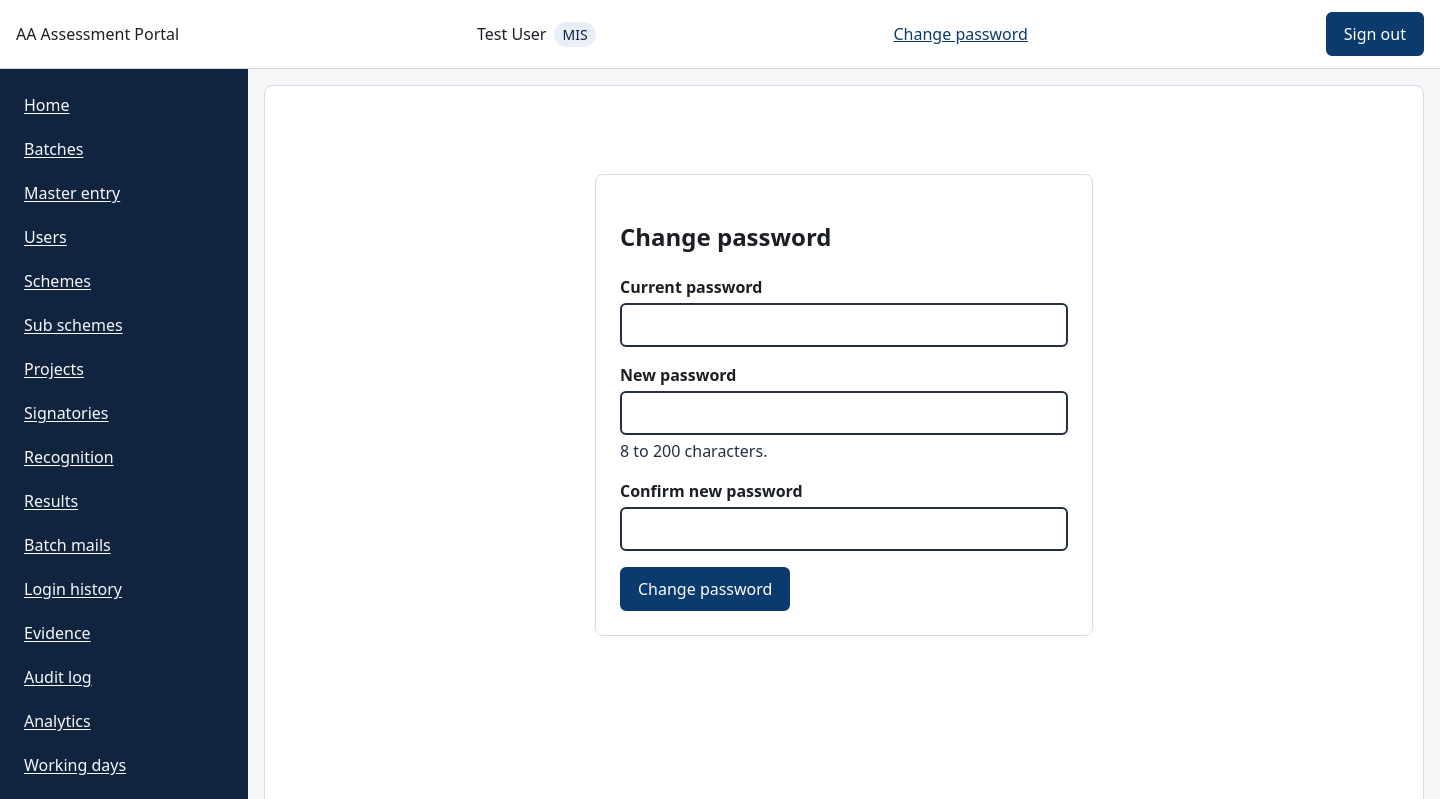
shows a retry message when the server rate-limits the attempt
Expected: the heading "Change password" is shown, [620,220,832,253]
In the password field labelled "Current password": point(844, 325) [620,303,1068,347], type "old-password-1"
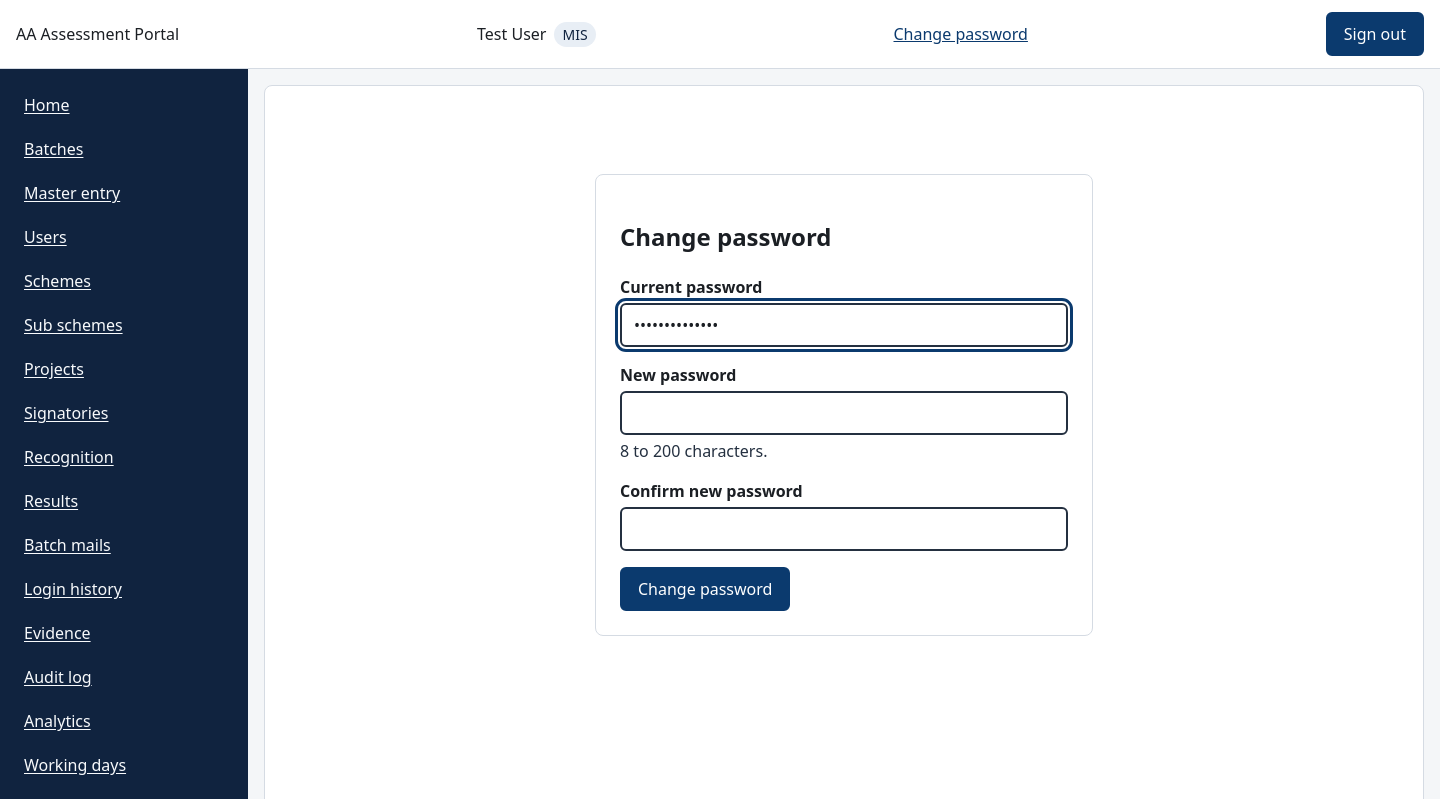
In the password field labelled "New password": point(844, 413) [620,391,1068,435], type "new-password-2"
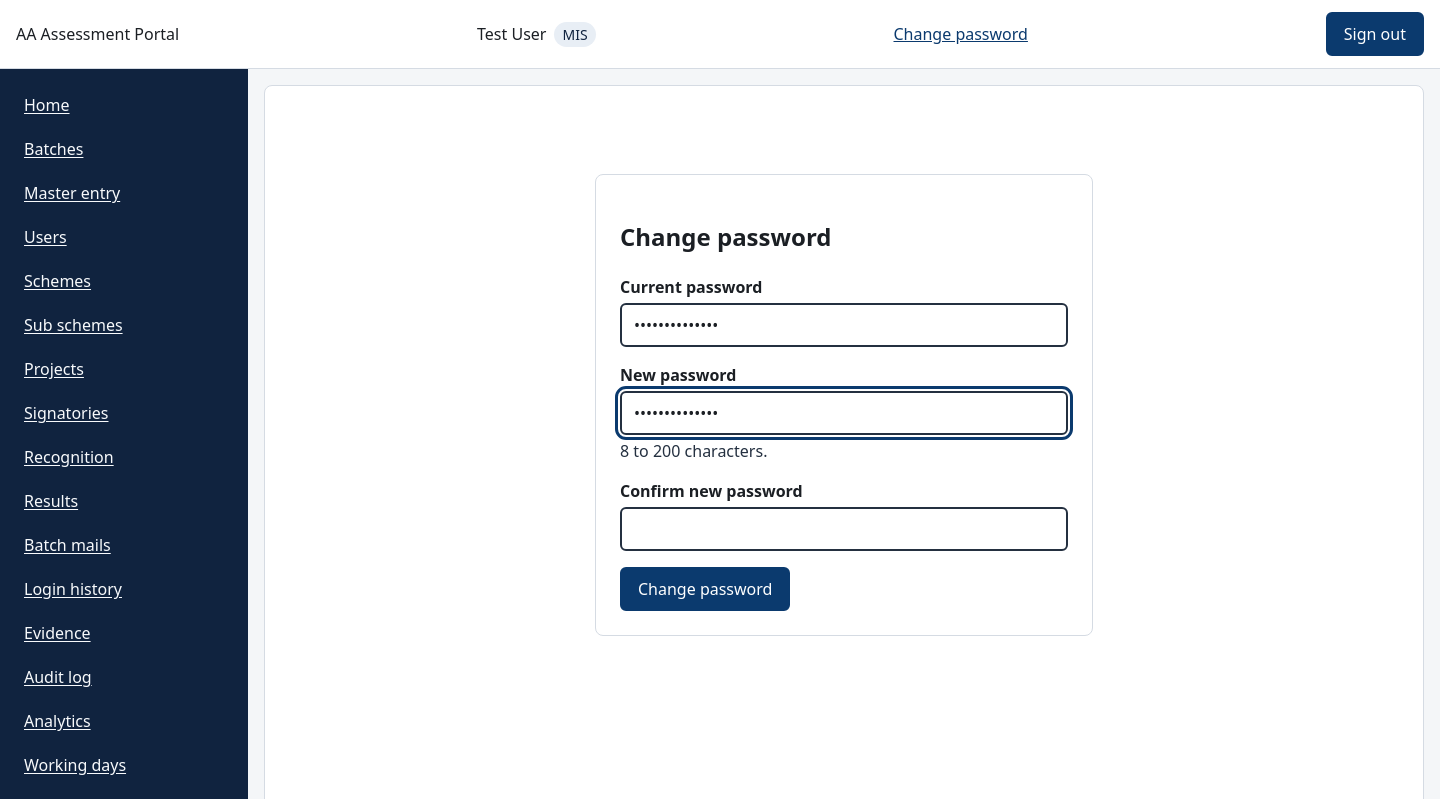
In the password field labelled "Confirm new password": point(844, 529) [620,507,1068,551], type "new-password-2"
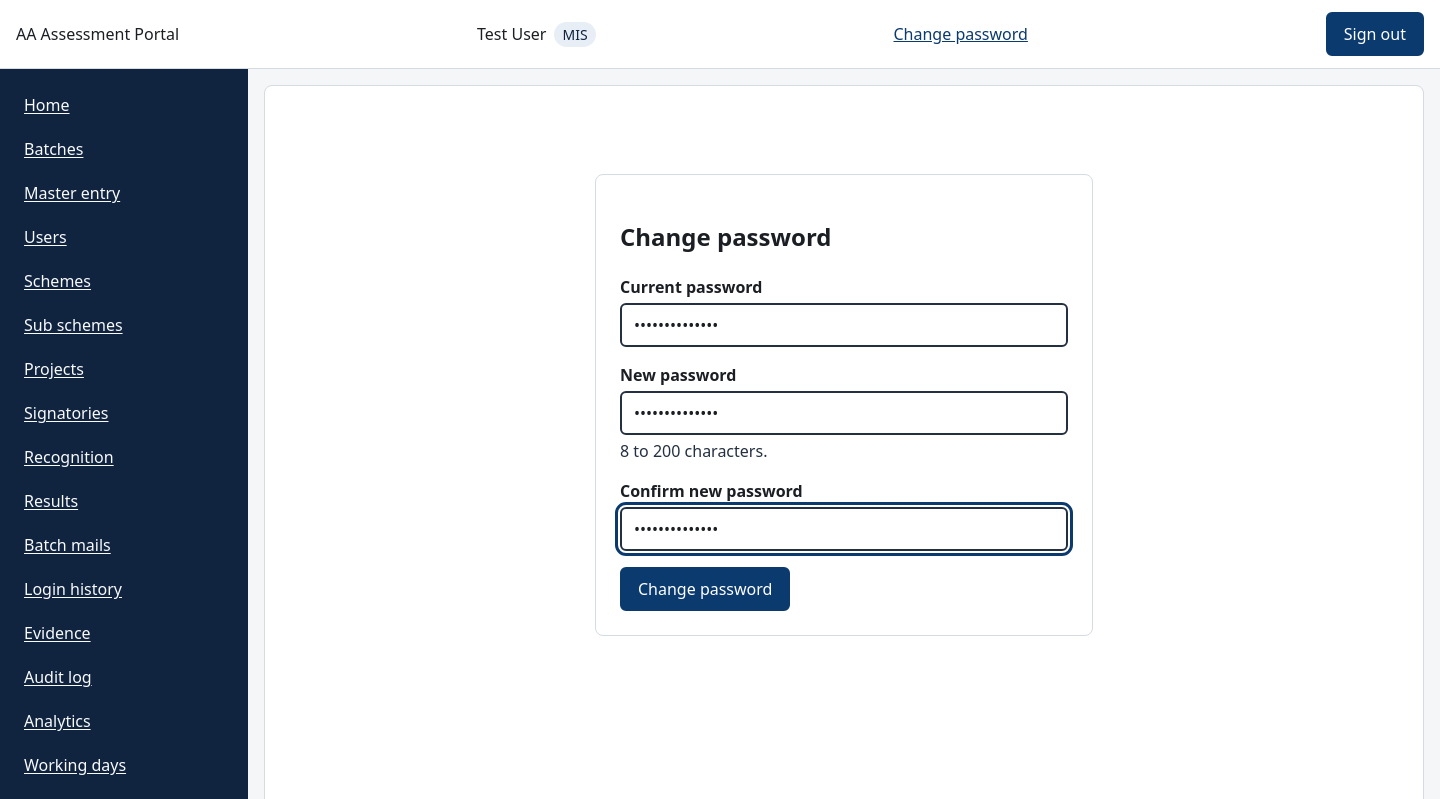
Click the button "Change password": point(705, 589) [620,567,790,611]
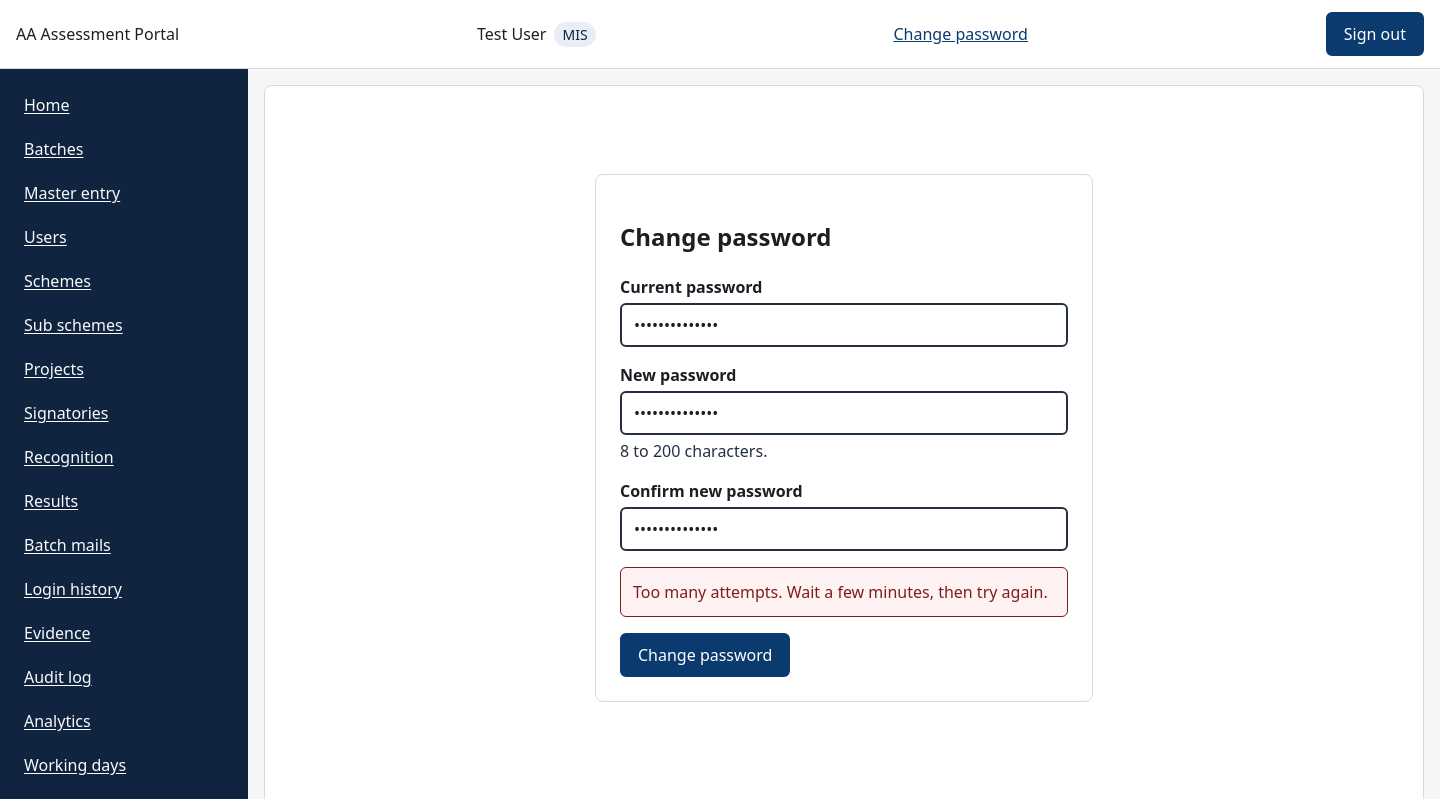
Expected: the text "Too many attempts. Wait a few minutes, then try again." is shown, [620,567,1068,617]
